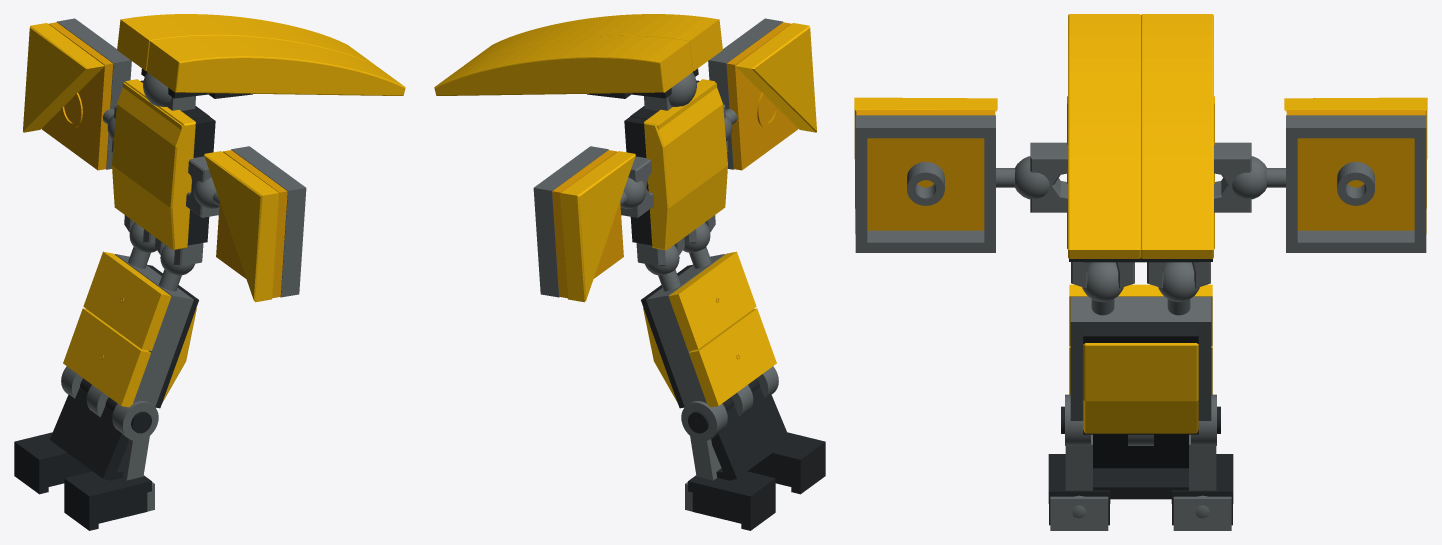
Rendered from pterosaur-standing.glb.
The picture shows the model from 3 angles, left to right: view 1: azimuth 30°, elevation 25°; view 2: azimuth 150°, elevation 25°; view 3: azimuth 270°, elevation 25°; orthographic projection. The views are drawn at different scales.
Parts seen in each view (by area): view 1: Smooth curved beak tile (×2), Raised triangular wing face (×2), Rounded chest surface, Individual lower torso tile (×2), Square wing plate (×2), Wing underside rim (×4), Folded black knee panel, Foot sole (×2), Lower torso backing, Barrel hinge knuckle (×3), Foot heel wall (×2), Ball joint (×3) (+7 smaller); view 2: Smooth curved beak tile (×2), Raised triangular wing face (×2), Rounded chest surface, Individual lower torso tile (×2), Square wing plate (×2), Wing underside rim (×4), Folded black knee panel, Foot sole (×2), Lower torso backing, Foot heel wall (×2), Barrel hinge knuckle (×3), Ball joint (×3) (+7 smaller); view 3: Smooth curved beak tile (×2), Square wing plate (×2), Wing underside rim (×8), Curved lower torso underside, U shaped ball cup (×4), Lower torso backing, Ball joint (×4), Raised triangular wing face (×2), Ankle cup backing (×2), Folded black knee panel, Raised knee panel rim, Wing underside sleeve (×2) (+5 smaller).
Part boxes in pixels (left/top/right/bottom): Smooth curved beak tile (×2): left=117, top=14, right=405, bottom=95; Raised triangular wing face (×2): left=23, top=23, right=279, bottom=302; Rounded chest surface: left=112, top=79, right=195, bottom=250; Individual lower torso tile (×2): left=63, top=251, right=171, bottom=407; Square wing plate (×2): left=41, top=22, right=287, bottom=298; Wing underside rim (×4): left=57, top=18, right=306, bottom=288; Folded black knee panel: left=49, top=387, right=128, bottom=480; Foot sole (×2): left=14, top=432, right=151, bottom=506; Lower torso backing: left=114, top=254, right=193, bottom=406; Barrel hinge knuckle (×3): left=61, top=366, right=158, bottom=441; Foot heel wall (×2): left=14, top=446, right=98, bottom=530; Ball joint (×3): left=143, top=72, right=219, bottom=275; Smooth curved beak tile (×2): left=434, top=14, right=722, bottom=95; Raised triangular wing face (×2): left=560, top=23, right=816, bottom=302; Rounded chest surface: left=644, top=79, right=727, bottom=250; Individual lower torso tile (×2): left=668, top=251, right=776, bottom=407; Square wing plate (×2): left=552, top=22, right=798, bottom=298; Wing underside rim (×4): left=533, top=18, right=782, bottom=288; Folded black knee panel: left=711, top=387, right=790, bottom=480; Foot sole (×2): left=688, top=432, right=825, bottom=506; Lower torso backing: left=646, top=254, right=725, bottom=406; Foot heel wall (×2): left=741, top=446, right=825, bottom=530; Barrel hinge knuckle (×3): left=681, top=366, right=778, bottom=441; Ball joint (×3): left=620, top=72, right=696, bottom=275; Smooth curved beak tile (×2): left=1068, top=14, right=1213, bottom=258; Square wing plate (×2): left=856, top=110, right=1425, bottom=230; Wing underside rim (×8): left=855, top=115, right=1426, bottom=252; Curved lower torso underside: left=1083, top=343, right=1198, bottom=433; U shaped ball cup (×4): left=1030, top=142, right=1251, bottom=288; Lower torso backing: left=1070, top=296, right=1211, bottom=420; Ball joint (×4): left=1015, top=156, right=1266, bottom=301; Raised triangular wing face (×2): left=854, top=97, right=1427, bottom=233; Ankle cup backing (×2): left=1050, top=496, right=1231, bottom=530; Folded black knee panel: left=1093, top=434, right=1188, bottom=468; Raised knee panel rim: left=1093, top=468, right=1188, bottom=499; Wing underside sleeve (×2): left=907, top=162, right=1374, bottom=205.
Size of the model in its own units: 3.52 by 4.55 by 4.37.
